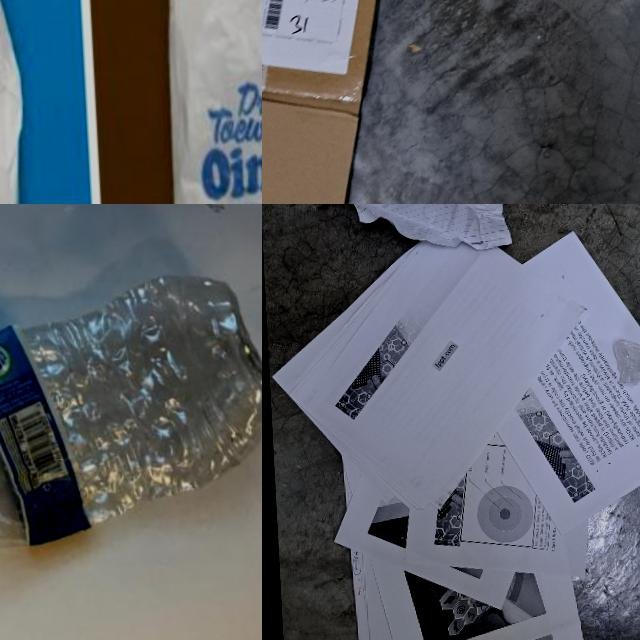garrafa plástica: (0, 266, 262, 553), (610, 288, 640, 387)
papel: (266, 219, 640, 640), (301, 204, 513, 260)
papelão: (262, 0, 431, 204)
sacola plástica: (142, 0, 262, 204)
